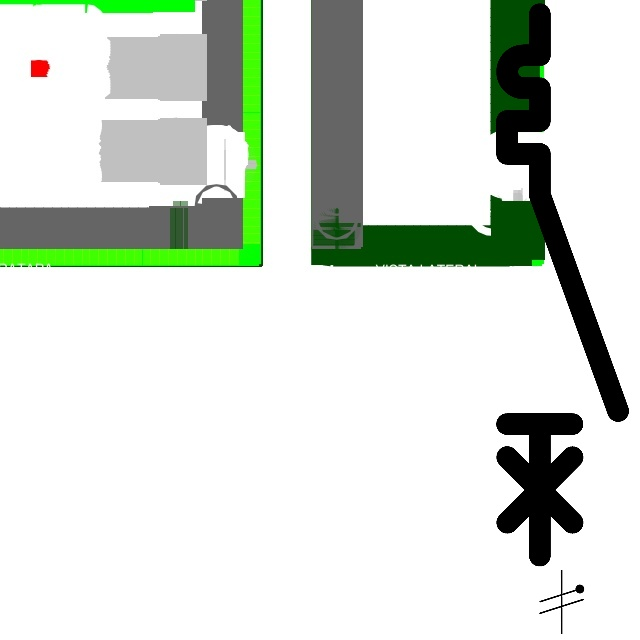interruptor_termomagnetico: (493, 0, 632, 570)
